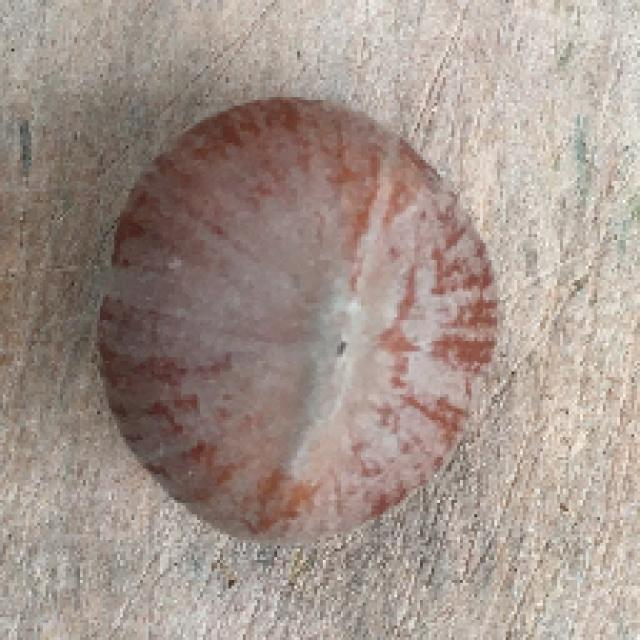qualityHazelnut: (88, 95, 512, 550)
